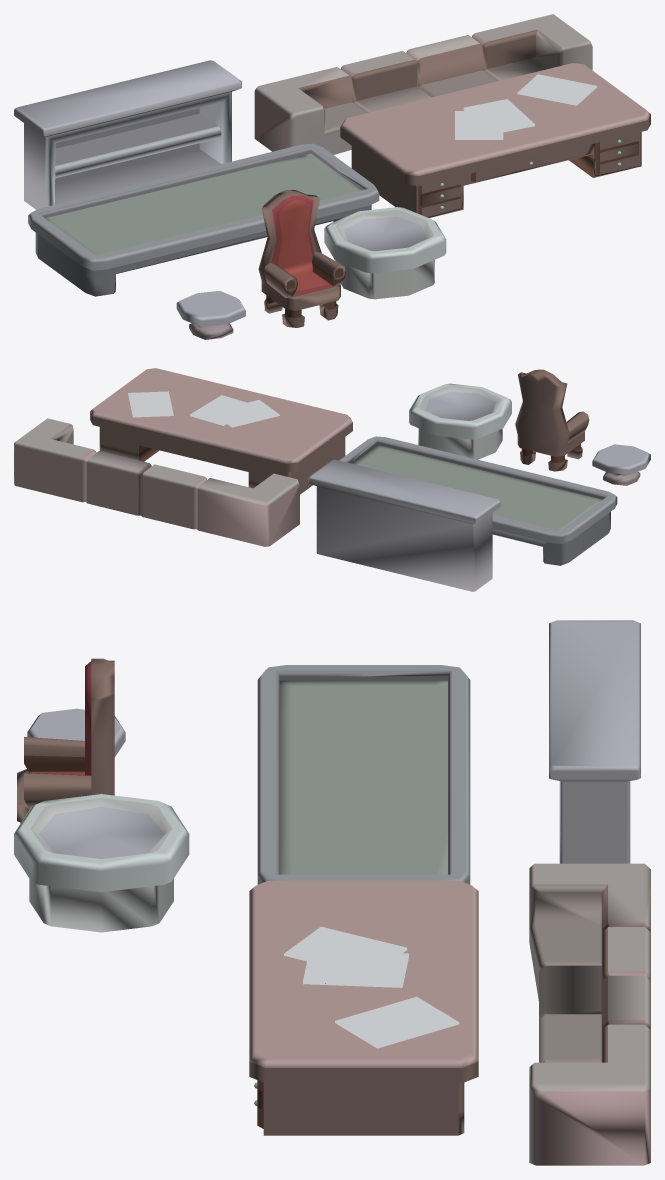
Rendered from qqqqqq.fbx.
3 renders of one model, top to bottom at view 1: azimuth 30°, elevation 25°; view 2: azimuth 150°, elevation 25°; view 3: azimuth 270°, elevation 25°, orthographic. The views are drawn at different scales.
Visible parts, largest first — view 1: S_Table_A, S_Table_C, S_Bookcase_A, S_Sofa_A, S_Table_B, S_Chair_A, S_Chair_B; view 2: S_Table_A, S_Bookcase_A, S_Sofa_A, S_Table_C, S_Table_B, S_Chair_A, S_Chair_B; view 3: S_Table_A, S_Table_C, S_Sofa_A, S_Bookcase_A, S_Table_B, S_Chair_A, S_Chair_B.
Part boxes in pixels (x1,y1,x2,y2): S_Table_A: [340, 63, 650, 217]; S_Table_C: [28, 143, 379, 296]; S_Bookcase_A: [14, 60, 241, 209]; S_Sofa_A: [254, 14, 592, 154]; S_Table_B: [324, 207, 446, 299]; S_Chair_A: [258, 190, 345, 327]; S_Chair_B: [176, 291, 245, 339]; S_Table_A: [90, 368, 352, 494]; S_Bookcase_A: [308, 459, 501, 591]; S_Sofa_A: [14, 418, 299, 546]; S_Table_C: [339, 436, 617, 565]; S_Table_B: [409, 383, 511, 459]; S_Chair_A: [515, 369, 589, 471]; S_Chair_B: [592, 444, 650, 485]; S_Table_A: [249, 880, 478, 1135]; S_Table_C: [257, 665, 470, 884]; S_Sofa_A: [529, 863, 650, 1165]; S_Bookcase_A: [549, 620, 640, 863]; S_Table_B: [14, 794, 189, 932]; S_Chair_A: [17, 658, 114, 823]; S_Chair_B: [27, 708, 125, 756].
Size of the model in its own units: 784 by 140 by 478.
